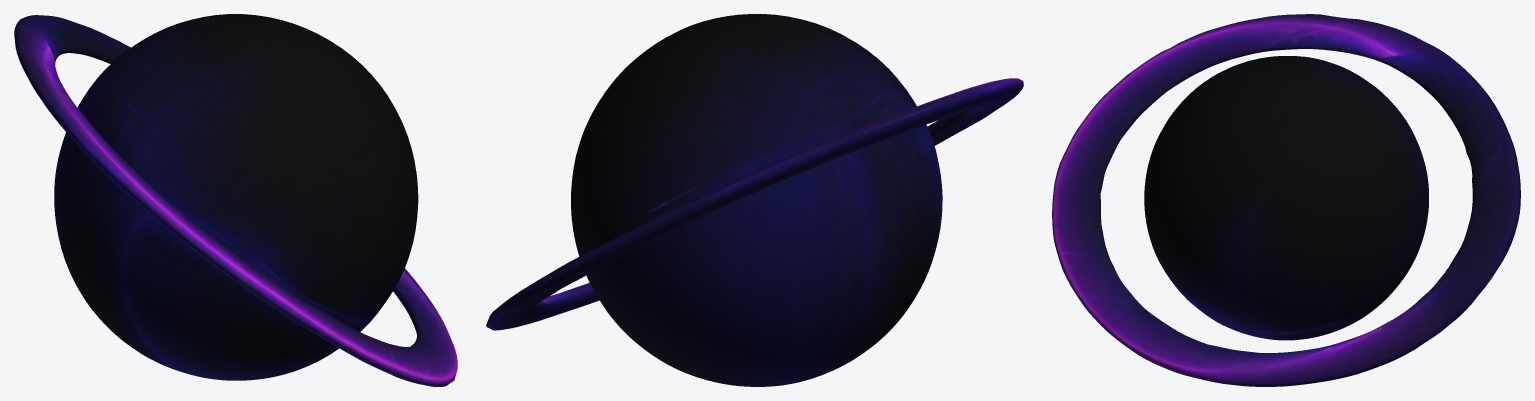
The model's file is Orbis_v1.glb.
3 views of the same model, side by side, from view 1: azimuth 30°, elevation 25°; view 2: azimuth 150°, elevation 25°; view 3: azimuth 270°, elevation 25° (orthographic). The views are drawn at different scales.
Size of the model in its own units: 1.47 by 1.21 by 1.99.
Materials: 1 (1 with a texture image).
